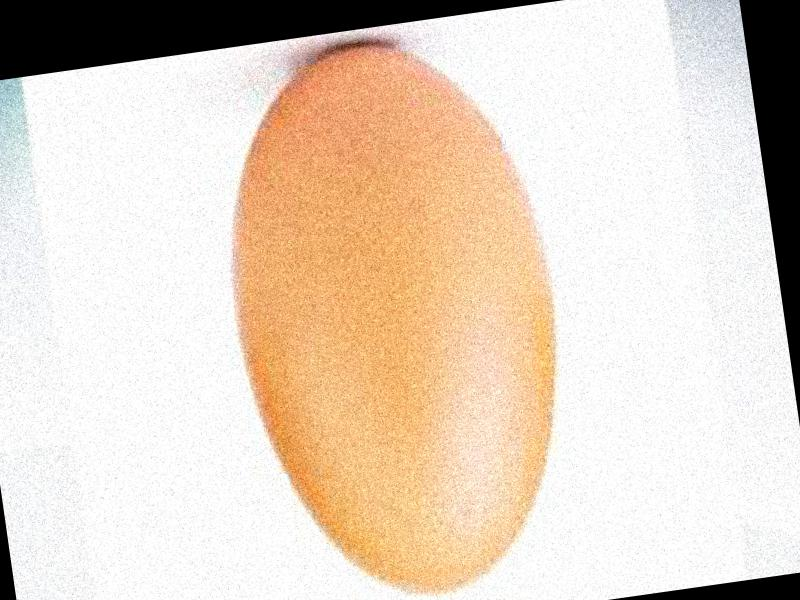Eggs: (201, 24, 590, 600)
